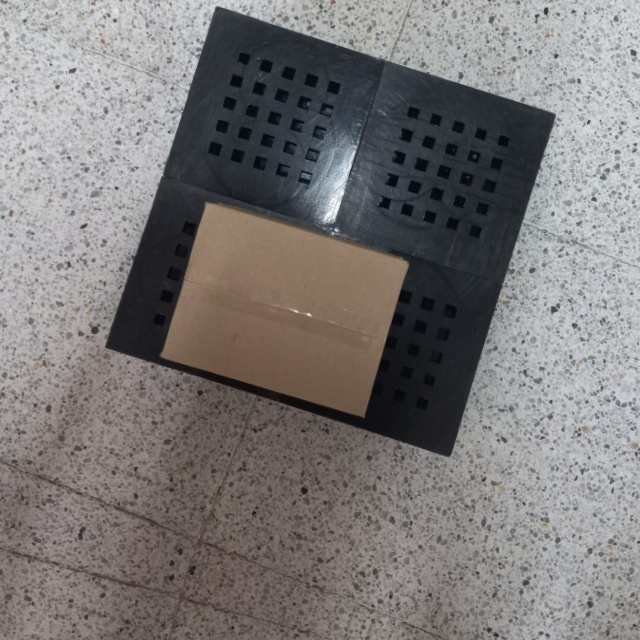box: (154, 190, 415, 427)
pallet: (75, 5, 567, 475)
